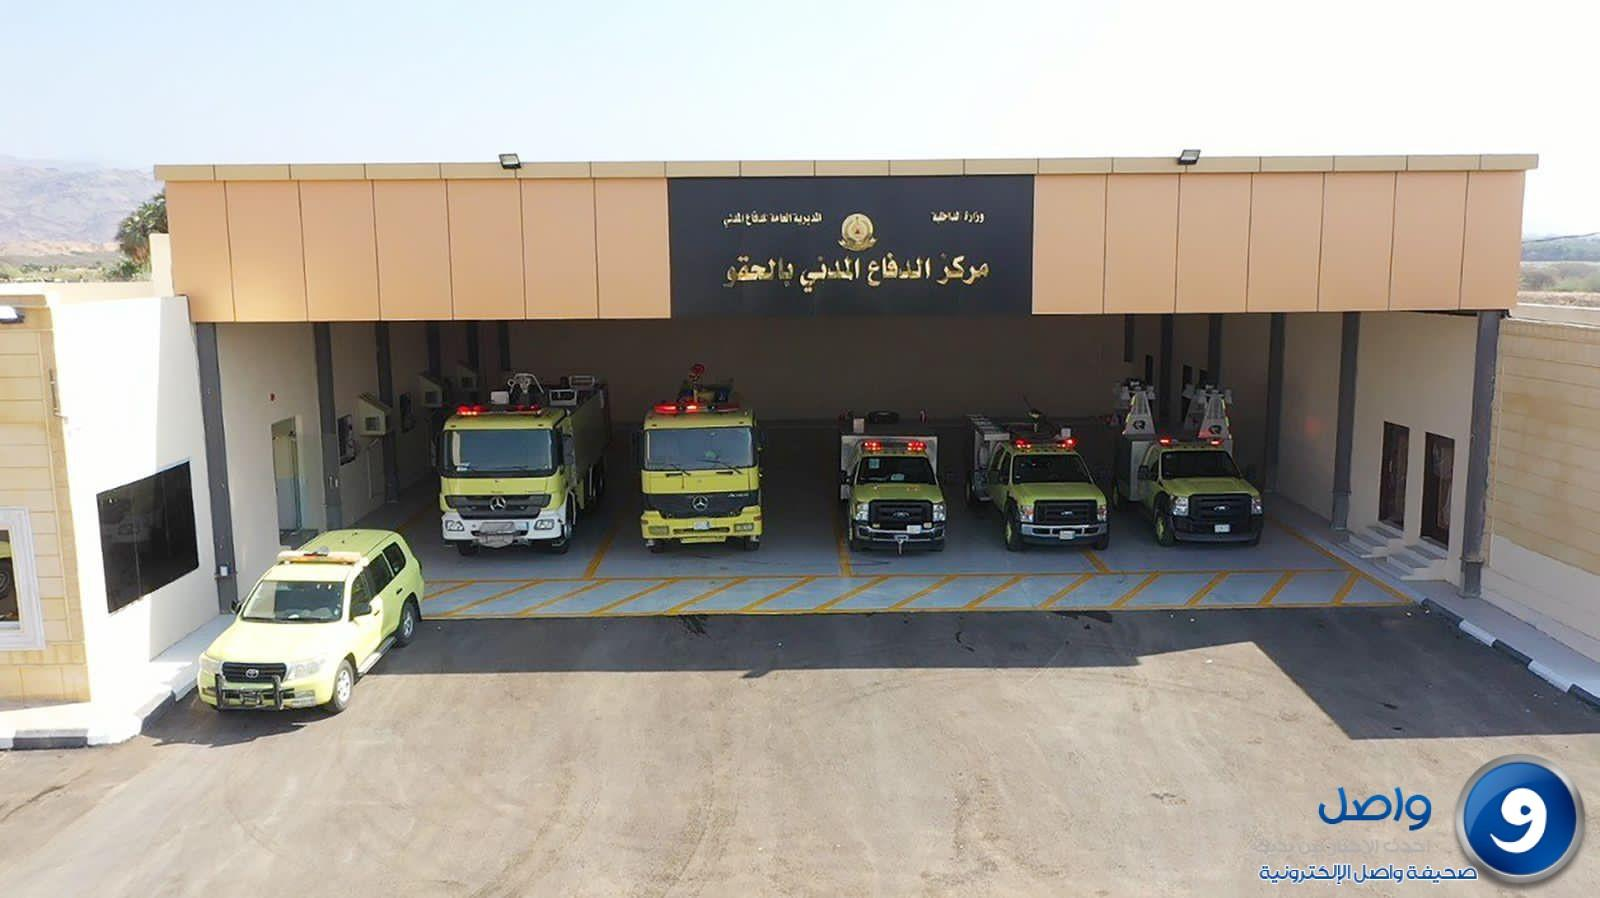firetruck_on: (436, 372, 619, 554), (1113, 394, 1259, 546), (642, 382, 767, 556), (961, 408, 1108, 548), (838, 408, 948, 554)
